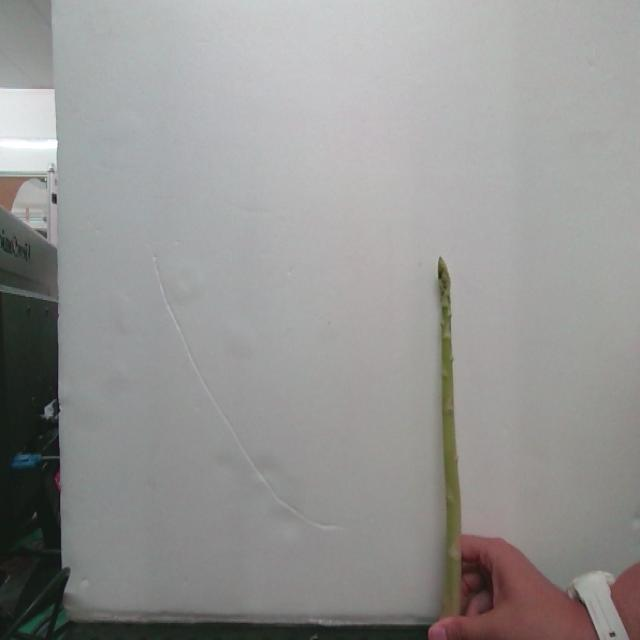aspargus: (435, 262, 461, 618)
